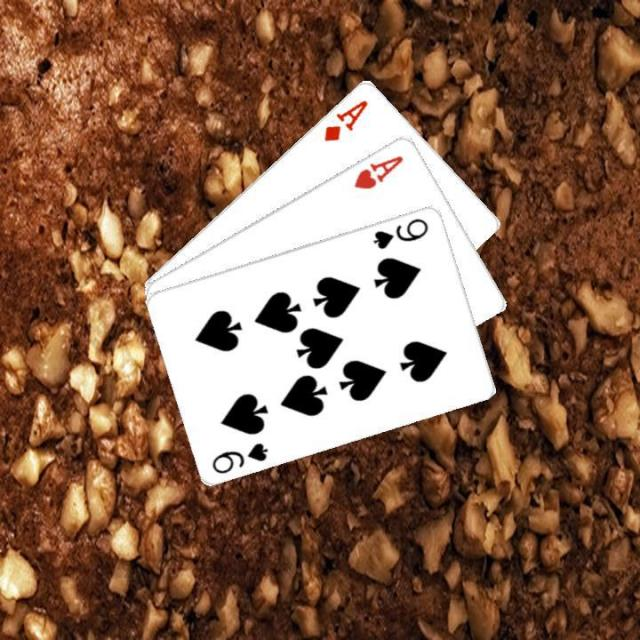9S: (369, 213, 431, 251), (208, 438, 270, 476)
AD: (320, 95, 371, 143)
AH: (350, 150, 406, 191)
